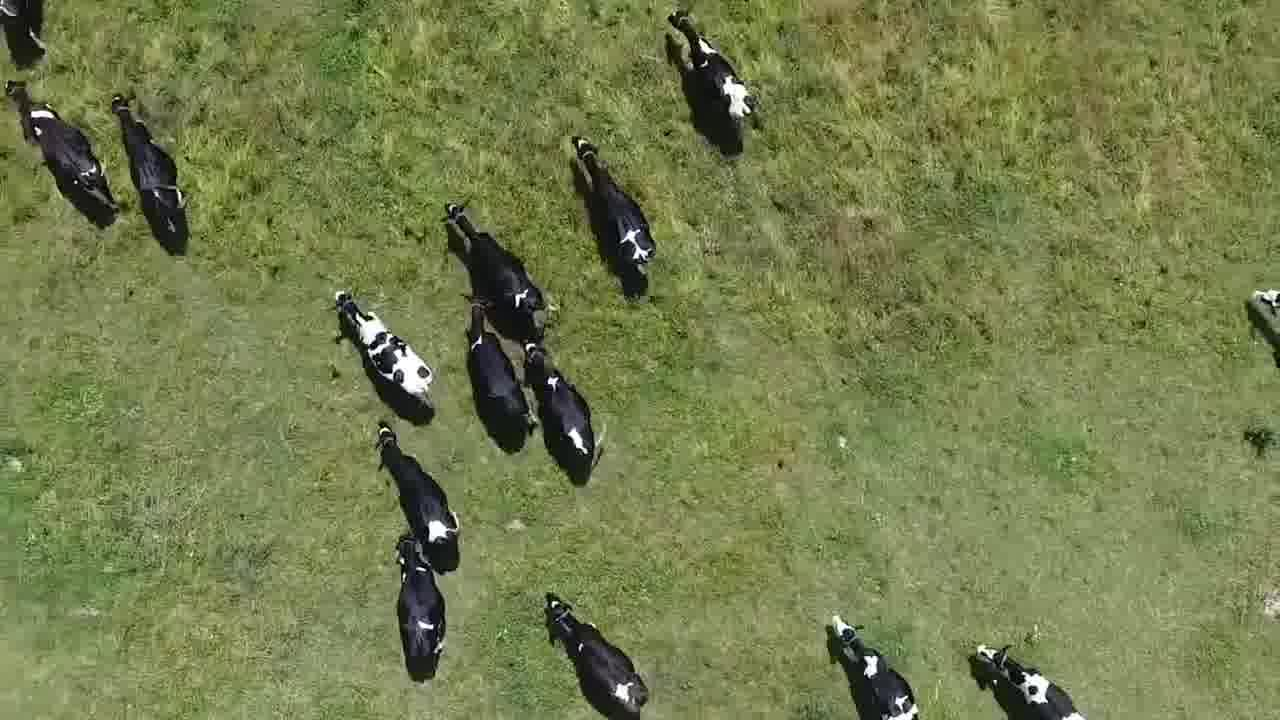cow: (3, 73, 123, 230), (437, 192, 551, 340), (539, 588, 652, 720), (106, 92, 196, 254), (330, 283, 441, 411), (455, 290, 541, 446), (567, 130, 660, 272), (370, 418, 467, 548), (661, 5, 760, 131), (518, 335, 603, 479), (826, 612, 927, 720), (384, 532, 455, 678), (975, 635, 1091, 720), (1253, 286, 1280, 320)
